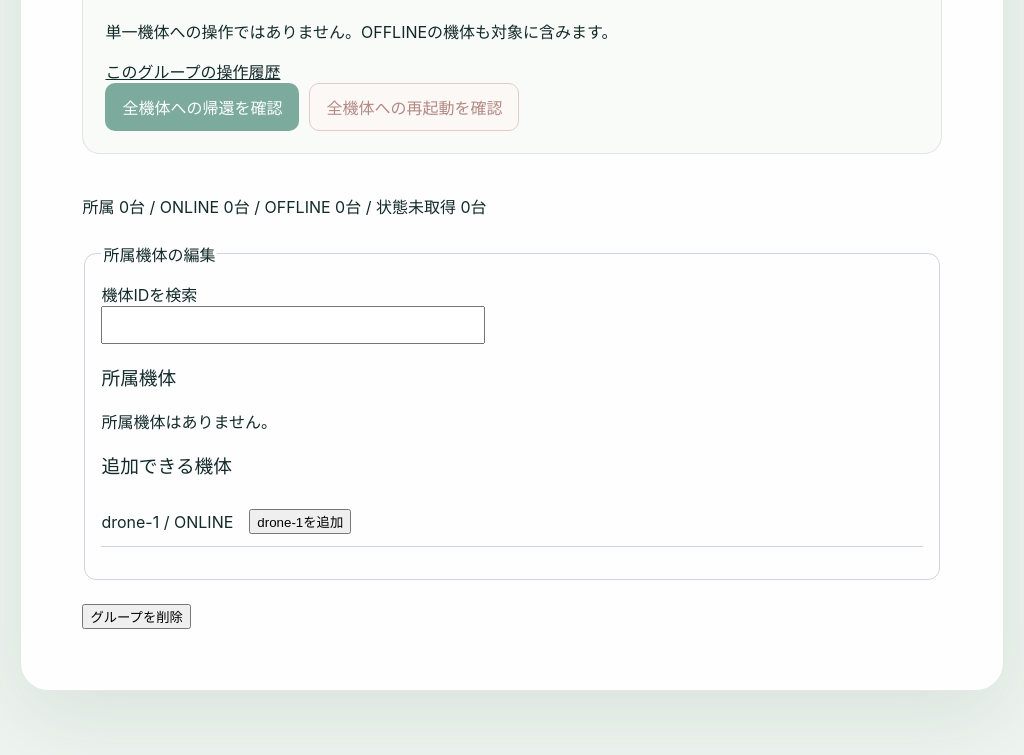
Test: group dashboard › cancels confirmation with Escape and requires a new confirmation after network failure
The image size is (1024, 755).
(page scrolled)
Click the button "drone-1を追加": (300, 522) [249, 509, 351, 534]
(page scrolled)
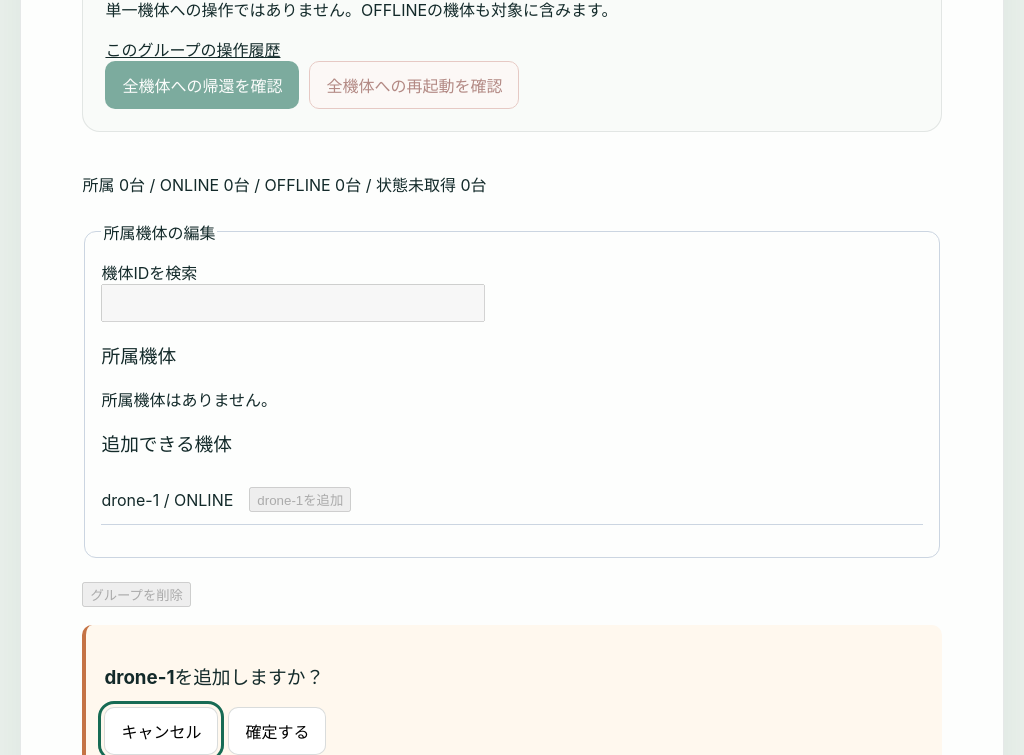
Press Escape in the button "キャンセル", box [104, 708, 218, 754]
(page scrolled)
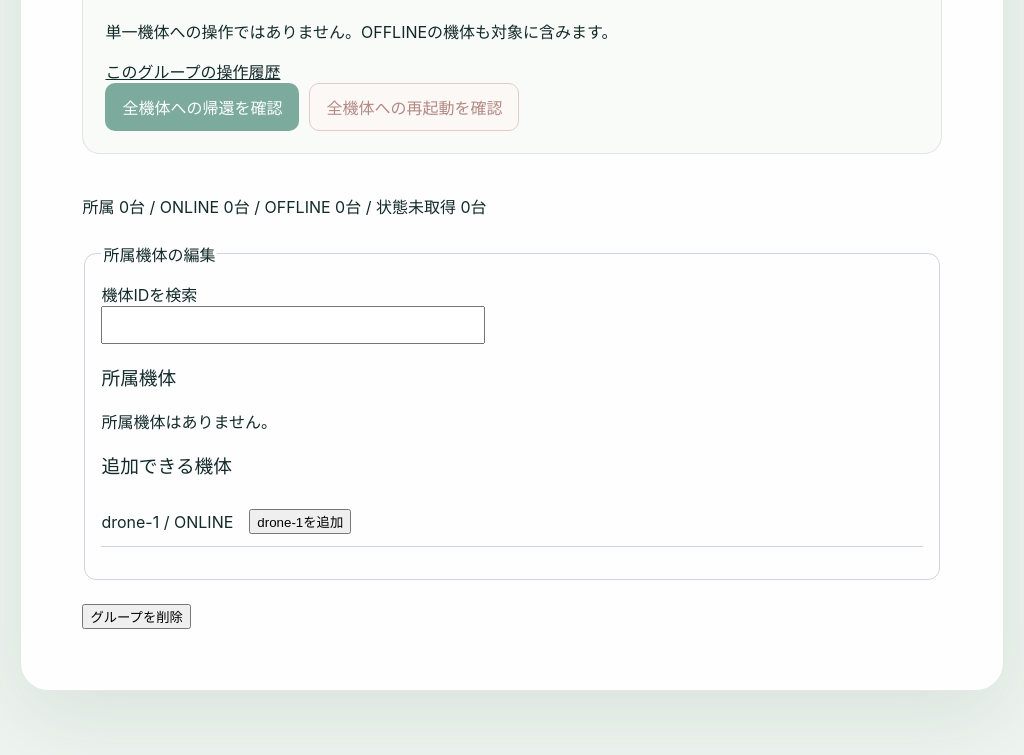
Click the button "drone-1を追加": (300, 522) [249, 509, 351, 534]
(page scrolled)
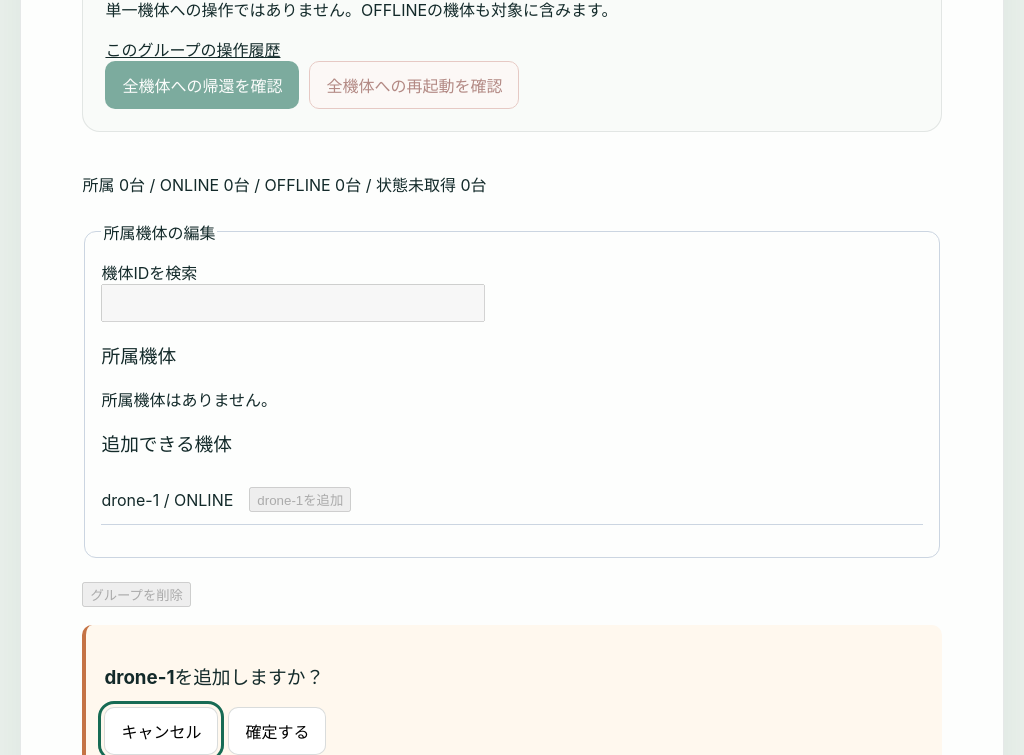
Click the button "確定する": (278, 732) [228, 708, 326, 754]
(page scrolled)
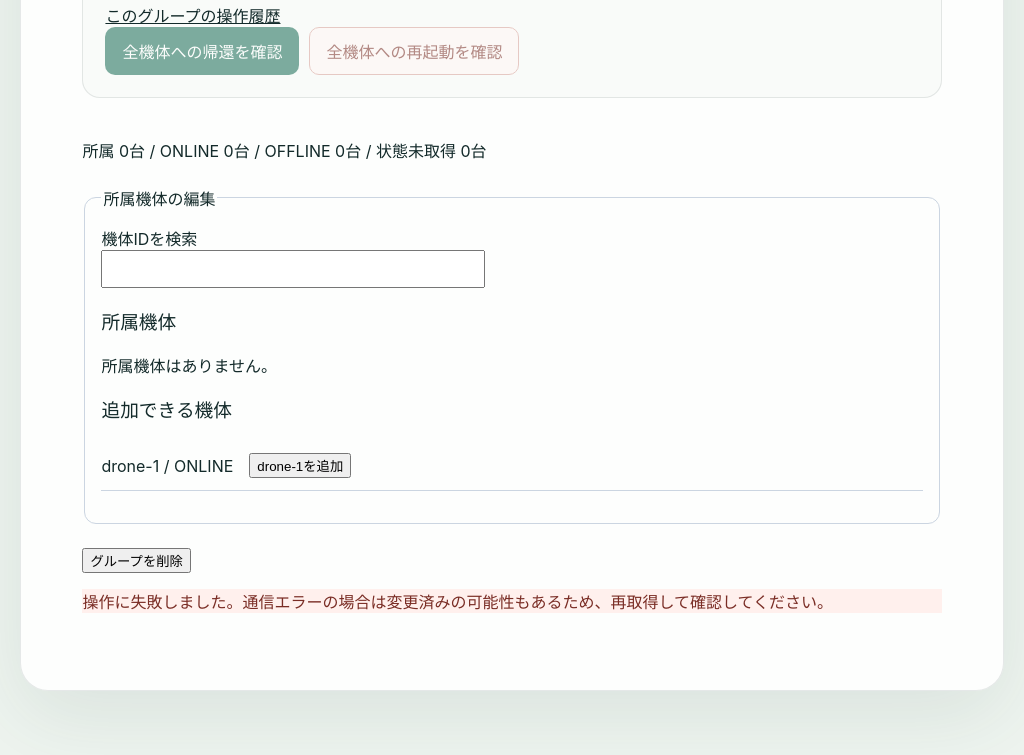
Check: the message shows "変更済みの可能性", box [242, 592, 833, 612]
